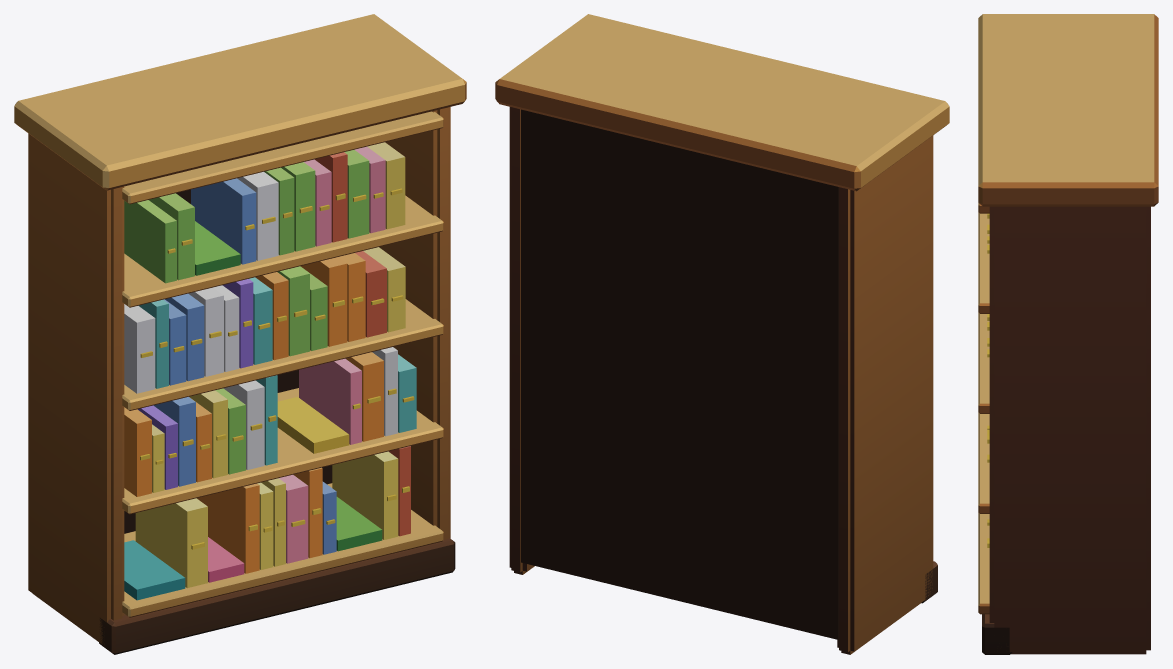
File: bookshelf.glb
3 views of the same model, side by side, from view 1: azimuth 30°, elevation 25°; view 2: azimuth 150°, elevation 25°; view 3: azimuth 270°, elevation 25° (orthographic). The views are drawn at different scales.
Parts seen in each view (by area): view 1: bookshelf; view 2: bookshelf; view 3: bookshelf.
Part boxes in pixels (x1,y1,x2,y2): bookshelf: (14, 14, 466, 654); bookshelf: (495, 14, 949, 654); bookshelf: (978, 14, 1158, 654).
Bounding box in the file's own units: 1.06 × 1.37 × 0.47.
